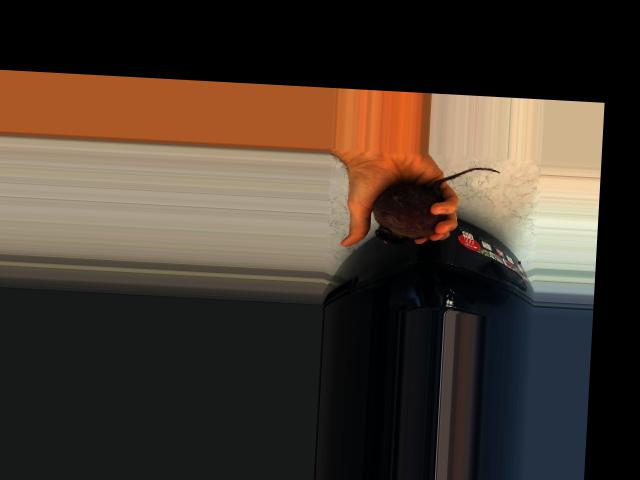beet: (372, 161, 500, 249)
